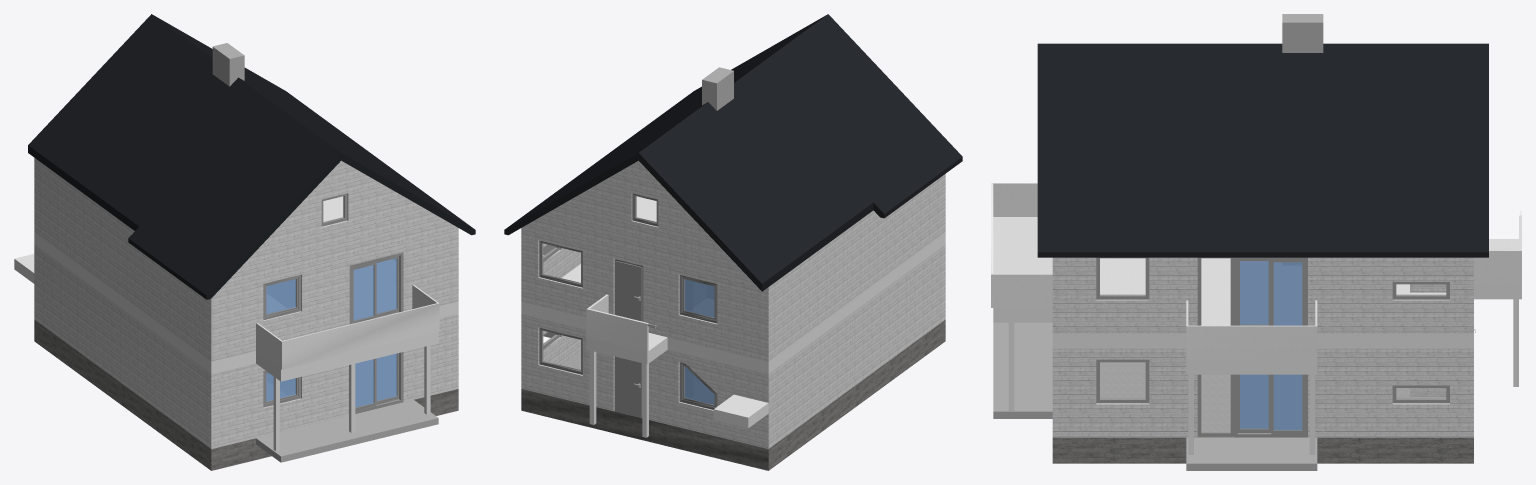
The model's file is vanlige_hus_betong.glb.
The picture shows the model from 3 angles, left to right: view 1: azimuth 30°, elevation 25°; view 2: azimuth 150°, elevation 25°; view 3: azimuth 270°, elevation 25°; orthographic projection. The views are drawn at different scales.
Visible parts, largest first — view 1: Object_8, Object_15, Object_7, Object_10, Object_2, Object_18, Object_26, Object_6, Object_17, Object_12, Object_27, Object_13 (+2 smaller); view 2: Object_8, Object_15, Object_18, Object_27, Object_12, Object_26, Object_6, Object_17, Object_14, Object_10, Object_9, Object_13 (+2 smaller); view 3: Object_15, Object_9, Object_7, Object_14, Object_18, Object_6, Object_26, Object_12, Object_10, Object_3, Object_16, Object_8.
Boxes of the visible parts, box(x1,y1,x2,y2) form: Object_8: box(34, 158, 458, 448); Object_15: box(28, 14, 473, 295); Object_7: box(212, 43, 438, 462); Object_10: box(266, 258, 396, 407); Object_2: box(282, 303, 439, 369); Object_18: box(14, 196, 458, 374); Object_26: box(34, 320, 211, 470); Object_6: box(256, 331, 438, 451); Object_17: box(206, 153, 475, 299); Object_12: box(263, 193, 402, 405); Object_27: box(211, 389, 458, 470); Object_13: box(263, 193, 402, 413); Object_8: box(521, 160, 945, 448); Object_15: box(506, 14, 962, 283); Object_18: box(521, 196, 945, 428); Object_27: box(521, 389, 768, 470); Object_12: box(539, 193, 717, 417); Object_26: box(768, 320, 945, 470); Object_6: box(543, 245, 667, 437); Object_17: box(504, 153, 884, 291); Object_14: box(586, 294, 648, 351); Object_10: box(684, 279, 714, 404); Object_9: box(543, 243, 580, 365); Object_13: box(539, 193, 717, 409); Object_15: box(1037, 43, 1488, 252); Object_9: box(1052, 257, 1473, 437); Object_7: box(993, 14, 1323, 470); Object_14: box(991, 183, 1521, 359); Object_18: box(1052, 239, 1518, 348); Object_6: box(993, 217, 1521, 454); Object_26: box(1052, 437, 1473, 463); Object_12: box(1096, 257, 1449, 437); Object_10: box(1240, 261, 1302, 430); Object_3: box(1100, 362, 1446, 431); Object_16: box(1037, 252, 1488, 257); Object_8: box(1410, 284, 1446, 396).
Size of the model in its own units: 10.17 by 10.05 by 12.97.
Materials: 16 (13 with a texture image).
